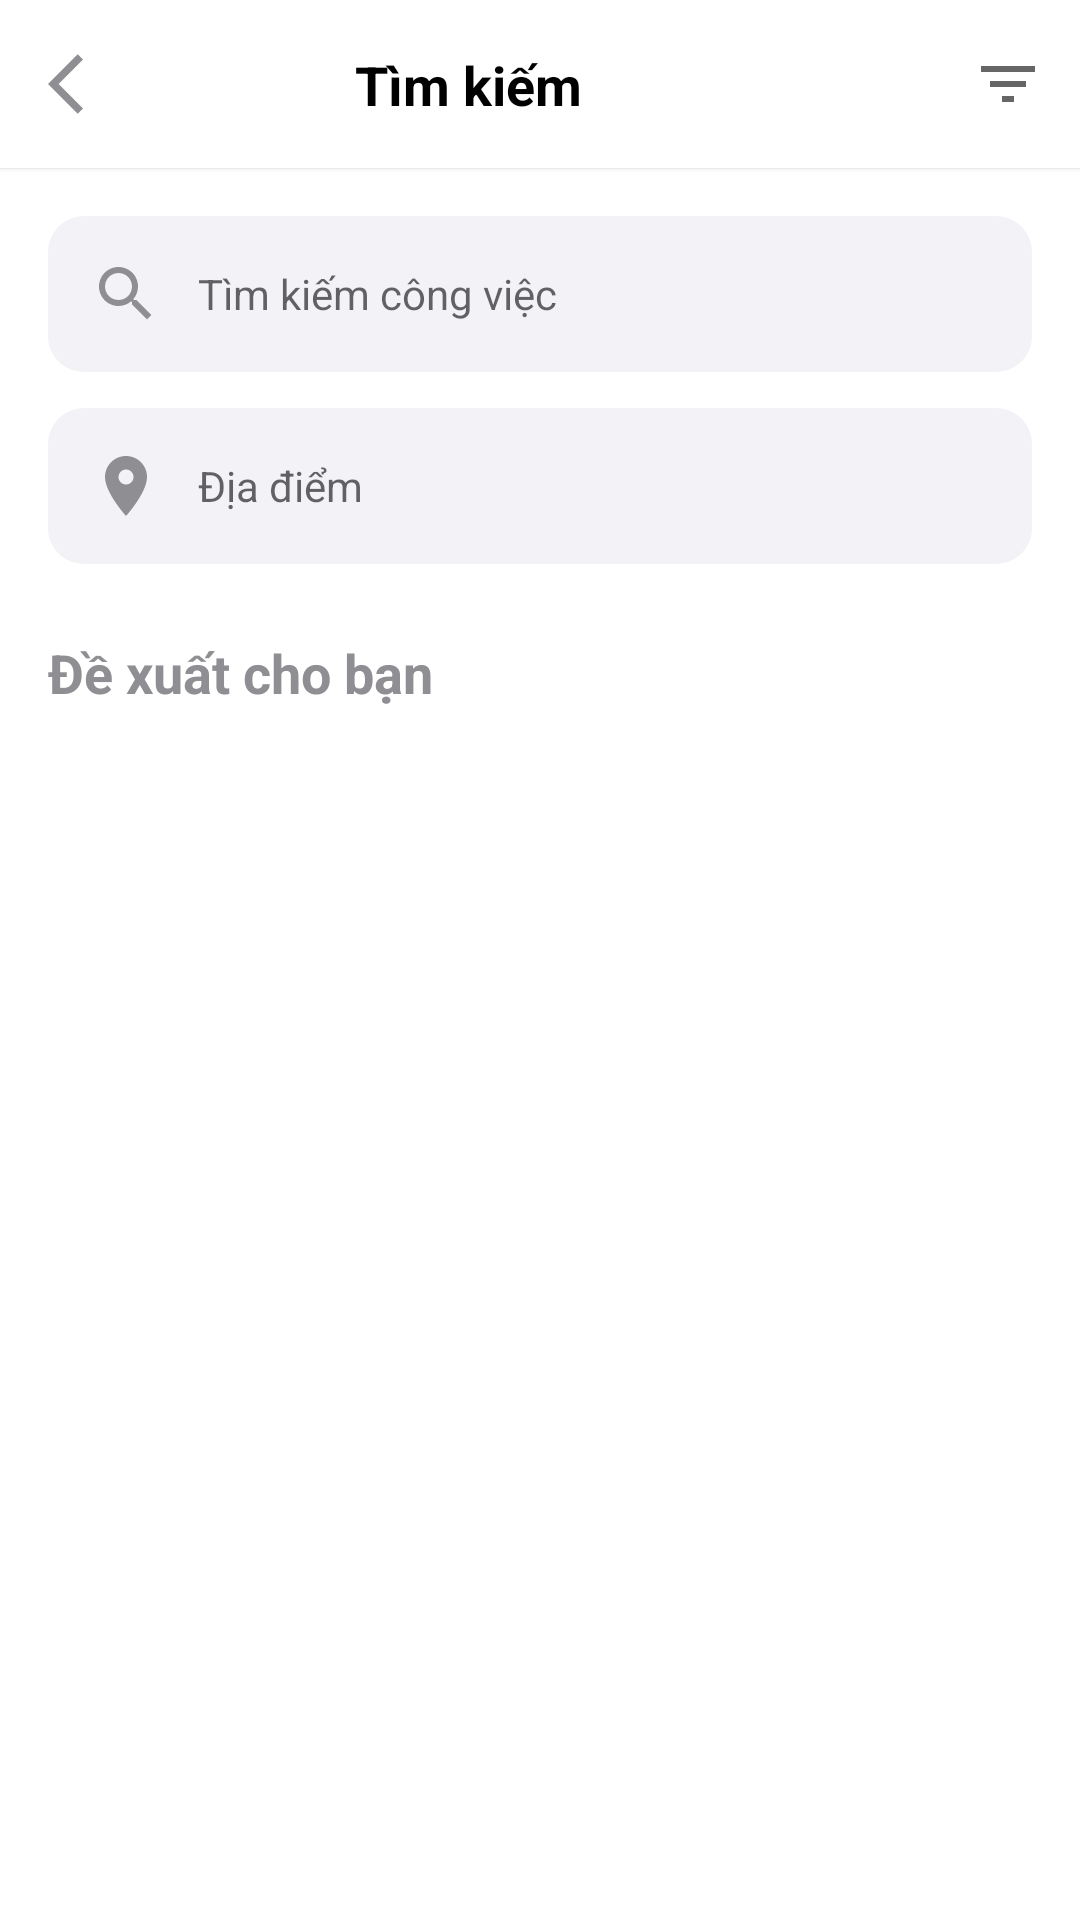

Where icons sit on this 1080px x 1920px app screen, as (x1, y1, x2, y2):
Quay lại: (48, 54, 83, 114)
